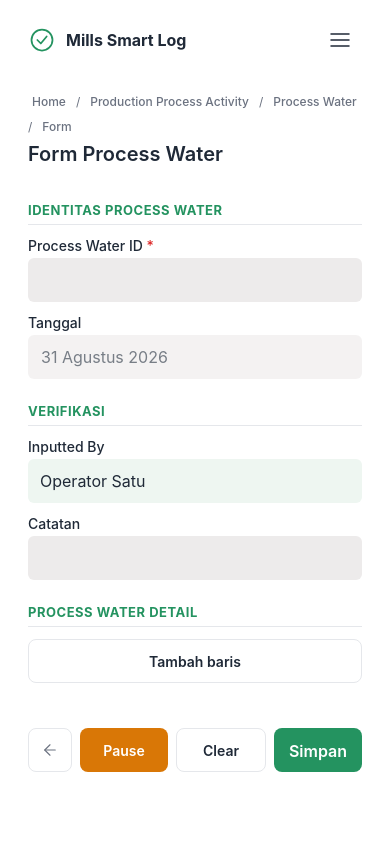
Test: FormProcessWaterView › shows inline error and does not save when Process Water ID is empty on Simpan
Click the button with test id "save-button" at (318, 750), box [274,728,362,772]
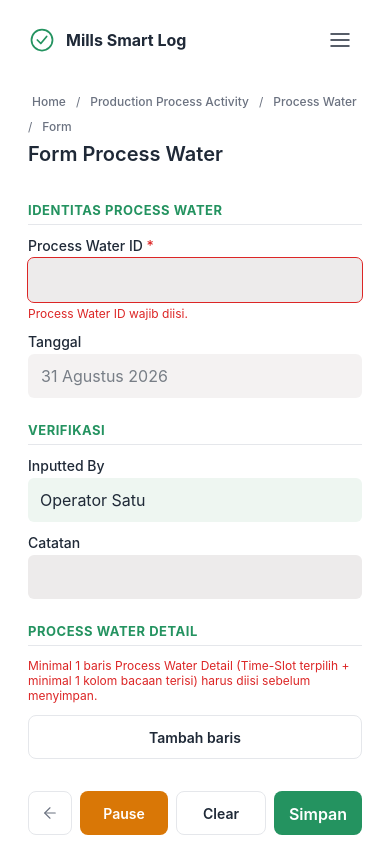
Result: the text "Process Water ID wajib diisi" is shown at [28,306,188,321]
